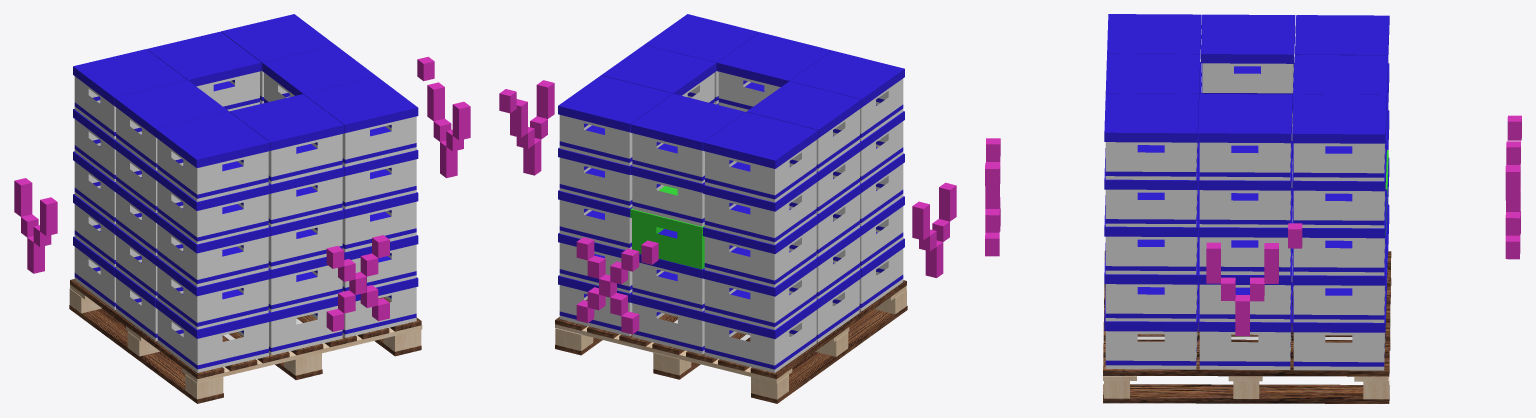
File: caja233.gltf
3 renders of one model, left to right at view 1: azimuth 30°, elevation 25°; view 2: azimuth 150°, elevation 25°; view 3: azimuth 270°, elevation 25°, orthographic. The views are drawn at different scales.
Parts seen in each view (by area): view 1: Cube.031_1, Cube.033_1, Cube.026_1, Cube.040_1, Cube.032_1, Cube.030_1, Cube.027_1, Cube.007_0, Cube.020_0, Cube.031_0, Cube.012_0, Cube.039_0 (+54 smaller); view 2: Cube.032_1, Cube.028_1, Cube.040_1, Cube.033_1, Cube.030_1, Cube.031_1, Cube.027_1, Cube.014_0, Cube.037_0, Cube.022_0, Cube.032_0, Cube.029_0 (+53 smaller); view 3: Cube.026_1, Cube.028_1, Cube.027_1, Cube.030_1, Cube055, Cube.032_1, Cube.033_1, Cube.031_1, Cube.040_1, Cube.003_0, Cube.001_0, Cube.002_0 (+32 smaller).
Part boxes in pixels (x1,y1,x2,y2): Cube.031_1: [155, 111, 270, 198]; Cube.033_1: [229, 94, 344, 181]; Cube.026_1: [303, 76, 418, 163]; Cube.040_1: [147, 31, 261, 109]; Cube.032_1: [73, 49, 186, 136]; Cube.030_1: [114, 80, 228, 167]; Cube.027_1: [262, 45, 376, 102]; Cube.007_0: [157, 309, 268, 372]; Cube.020_0: [157, 224, 268, 287]; Cube.031_0: [157, 138, 268, 201]; Cube.012_0: [157, 267, 268, 329]; Cube.039_0: [157, 181, 268, 244]; Cube.032_1: [703, 112, 818, 199]; Cube.028_1: [558, 75, 672, 162]; Cube.040_1: [630, 94, 745, 180]; Cube.033_1: [717, 32, 832, 109]; Cube.030_1: [746, 81, 861, 168]; Cube.031_1: [790, 50, 904, 137]; Cube.027_1: [601, 44, 716, 103]; Cube.014_0: [704, 310, 816, 372]; Cube.037_0: [704, 225, 816, 287]; Cube.022_0: [704, 267, 816, 329]; Cube.032_0: [705, 140, 816, 202]; Cube.029_0: [704, 182, 816, 244]; Cube.026_1: [1104, 93, 1198, 176]; Cube.028_1: [1292, 94, 1386, 177]; Cube.027_1: [1198, 94, 1292, 177]; Cube.030_1: [1201, 14, 1295, 94]; Cube055: [1103, 384, 1389, 403]; Cube.032_1: [1295, 15, 1389, 55]; Cube.033_1: [1105, 53, 1200, 98]; Cube.031_1: [1107, 14, 1201, 58]; Cube.040_1: [1293, 55, 1388, 94]; Cube.003_0: [1293, 332, 1385, 370]; Cube.001_0: [1105, 331, 1197, 369]; Cube.002_0: [1199, 331, 1291, 369].
Bounding box in the file's own units: 4.23 × 2.33 × 4.22.
Materials: 82 (2 with a texture image).
